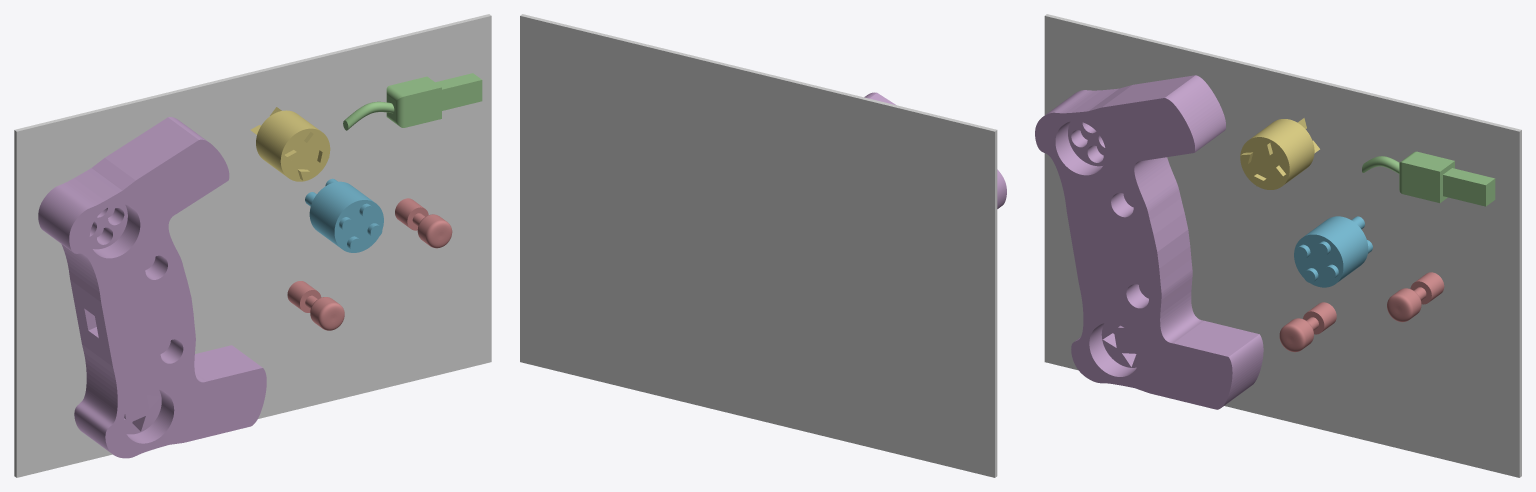
Rendered from pickup_layout.glb.
3 renders of one model, left to right at view 1: azimuth 30°, elevation 25°; view 2: azimuth 150°, elevation 25°; view 3: azimuth 330°, elevation 25°, orthographic.
Visible parts, largest first — view 1: world, 3.obj, 4.obj, 2.obj, 1.obj, 5.obj, 0.obj; view 2: world; view 3: world, 3.obj, 4.obj, 2.obj, 1.obj, 5.obj, 0.obj.
Part boxes in pixels (x1,y1,x2,y2): world: [14, 14, 491, 477]; 3.obj: [38, 117, 266, 458]; 4.obj: [343, 73, 482, 130]; 2.obj: [305, 178, 383, 252]; 1.obj: [250, 107, 330, 181]; 5.obj: [287, 281, 344, 330]; 0.obj: [395, 198, 452, 248]; world: [520, 14, 997, 477]; world: [1044, 14, 1521, 477]; 3.obj: [1035, 75, 1263, 409]; 4.obj: [1362, 151, 1495, 206]; 2.obj: [1294, 216, 1372, 287]; 1.obj: [1240, 118, 1319, 189]; 5.obj: [1279, 302, 1336, 352]; 0.obj: [1387, 272, 1444, 322].
Size of the model in its own units: 22.09 by 15.39 by 3.2.
